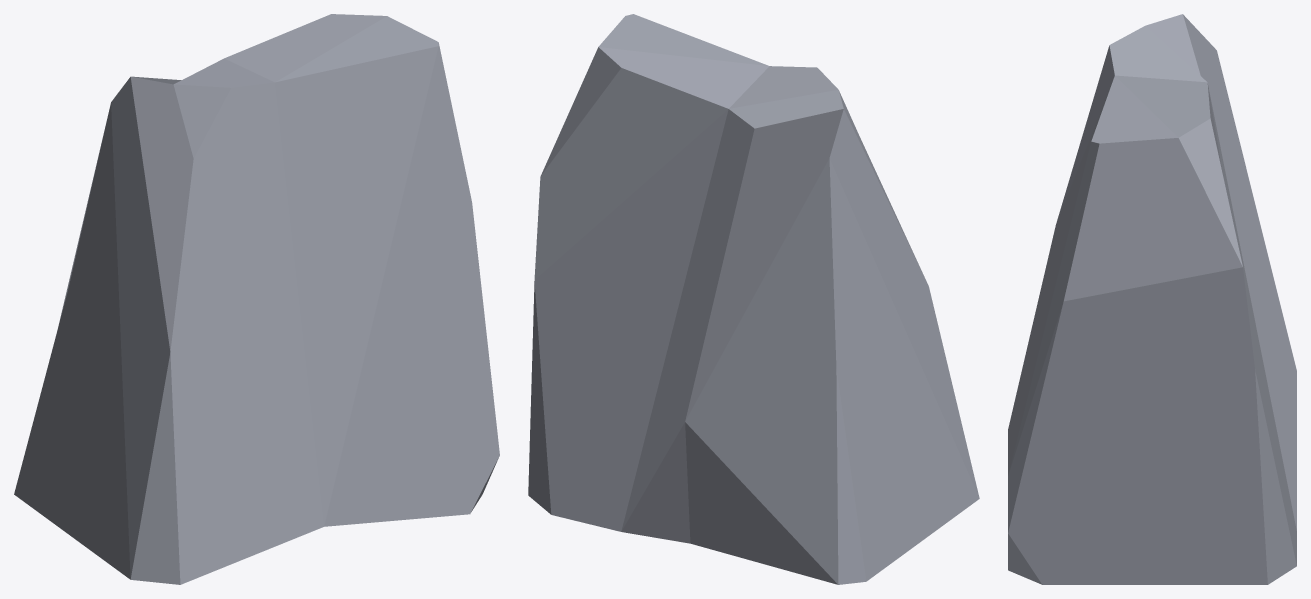
File: mod_bg_PierrePetit.fbx
The picture shows the model from 3 angles, left to right: view 1: azimuth 30°, elevation 25°; view 2: azimuth 150°, elevation 25°; view 3: azimuth 270°, elevation 25°; orthographic projection. The views are drawn at different scales.
Visible parts, largest first — view 1: PierrePetit; view 2: PierrePetit; view 3: PierrePetit.
Boxes of the visible parts, box(x1,y1,x2,y2) form: PierrePetit: box(14, 14, 499, 584); PierrePetit: box(528, 14, 979, 584); PierrePetit: box(1008, 14, 1296, 584).
Bounding box in the file's own units: 42.43 × 50.17 × 30.27.
